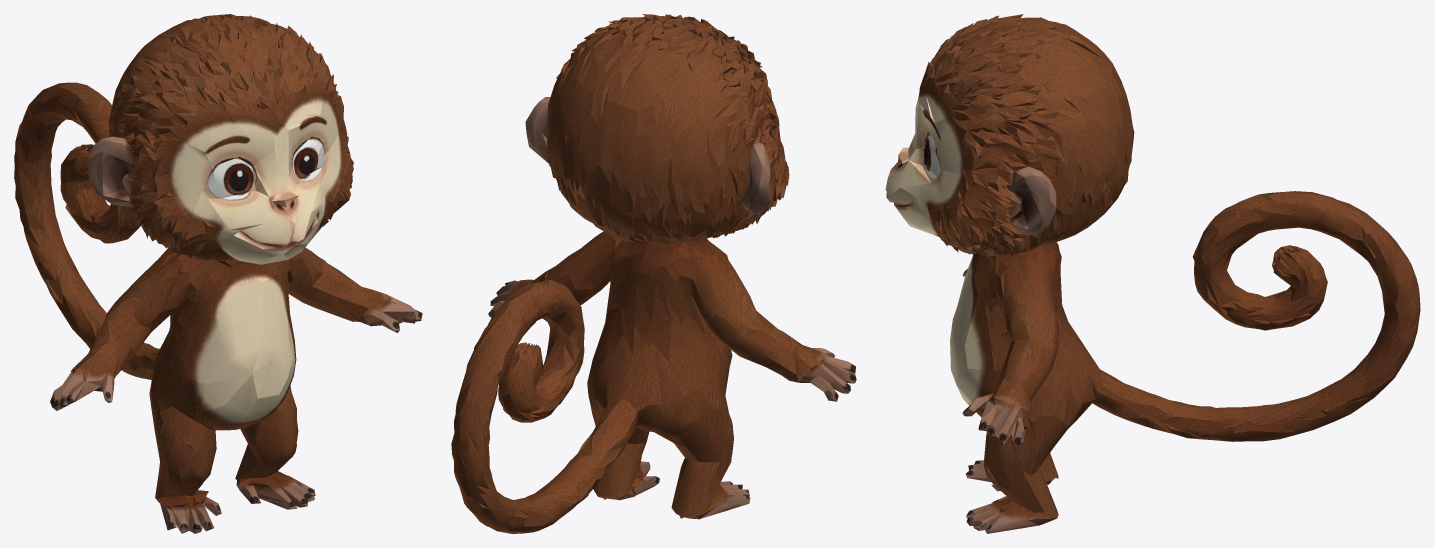
Rendered from monkey.glb.
3 renders of one model, left to right at view 1: azimuth 30°, elevation 25°; view 2: azimuth 150°, elevation 25°; view 3: azimuth 270°, elevation 25°, orthographic.
Size of the model in its own units: 1.48 by 1.85 by 1.9.
1 material, 1 textured.
